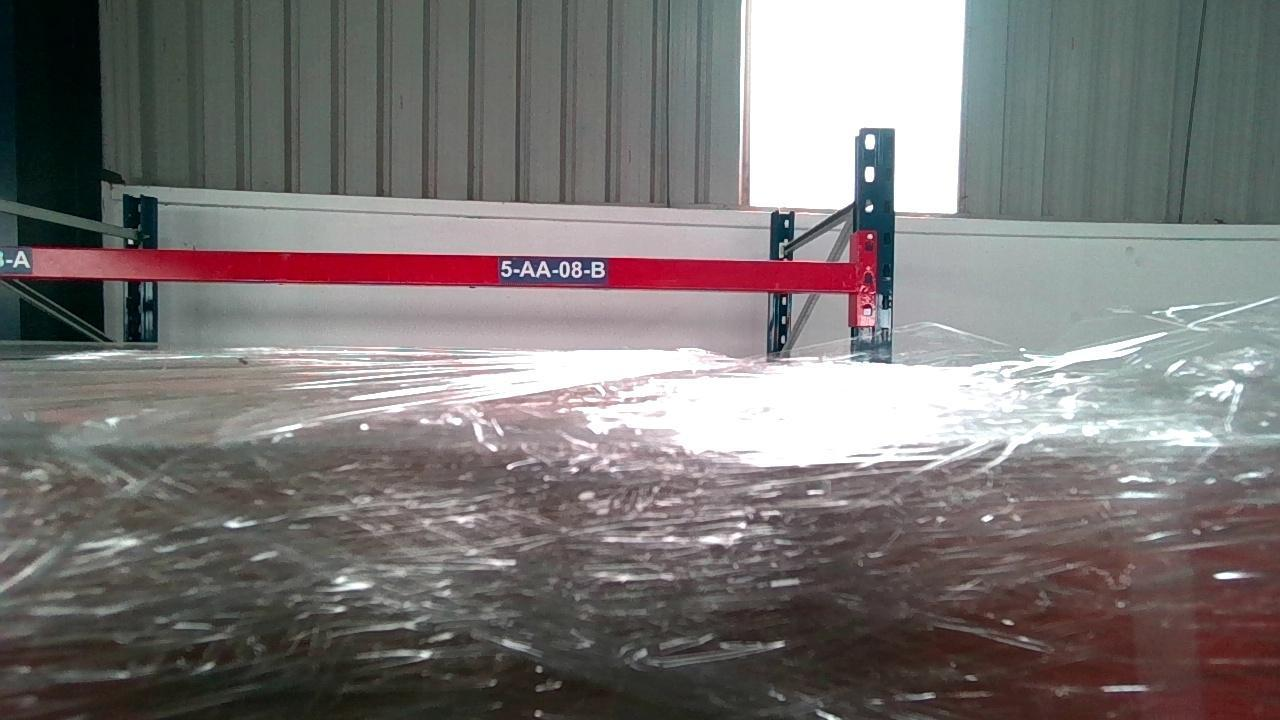h_rack: (0, 243, 864, 290)
